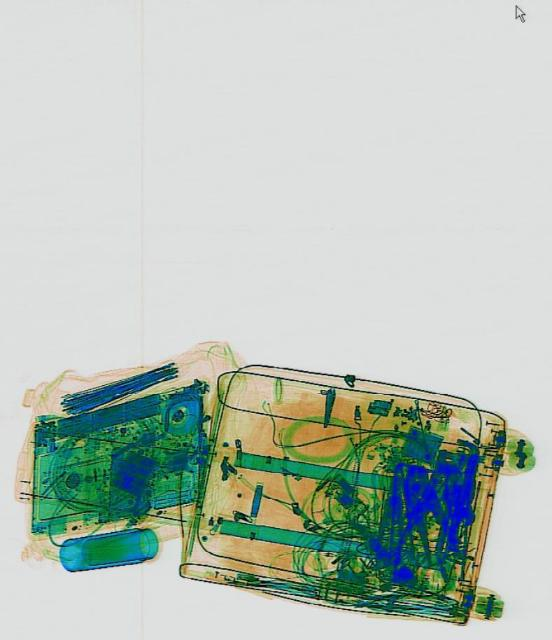Pliers: (390, 460, 463, 566)
